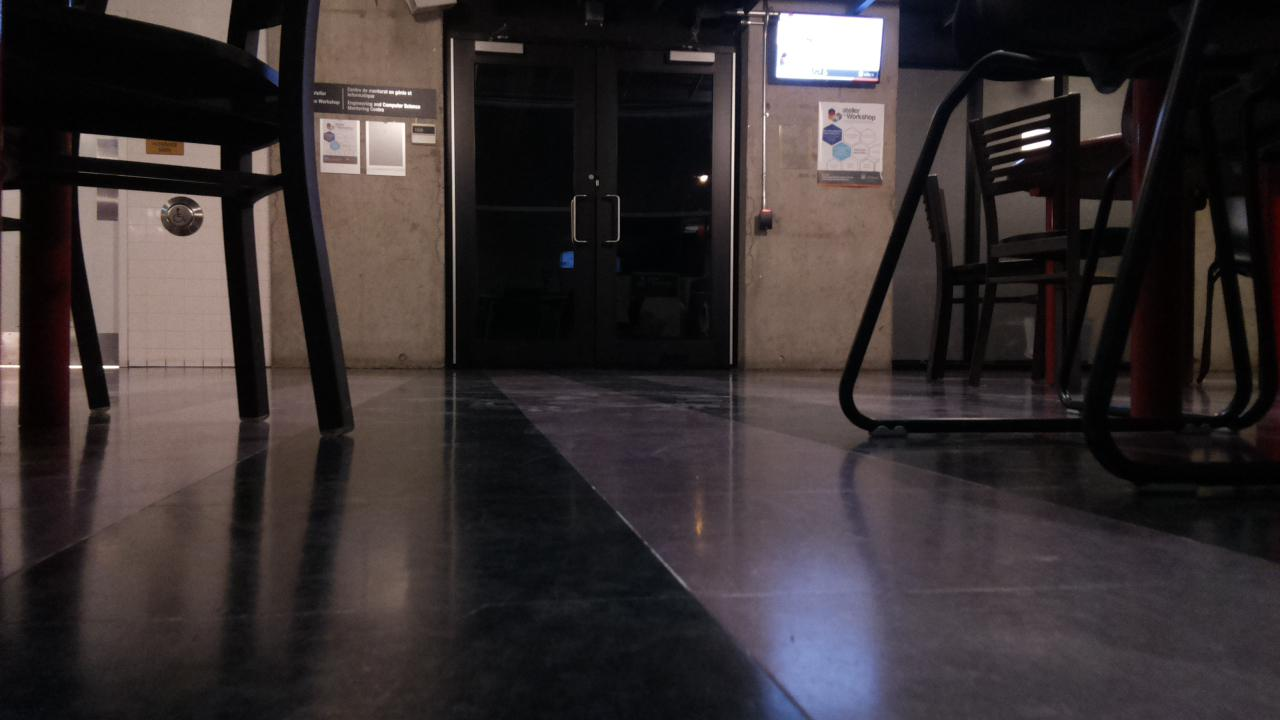door: (453, 40, 733, 363)
sign: (412, 125, 434, 142)
